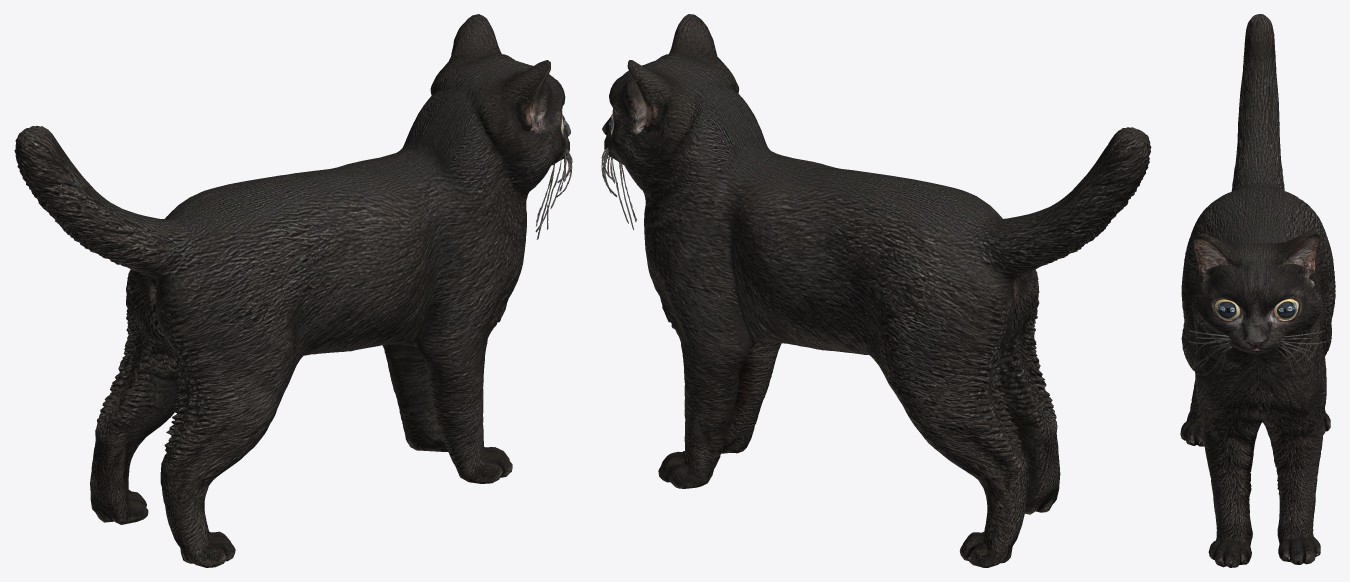
The model's file is MAYORJINX.glb.
The picture shows the model from 3 angles, left to right: view 1: azimuth 30°, elevation 25°; view 2: azimuth 150°, elevation 25°; view 3: azimuth 270°, elevation 25°; orthographic projection. The views are drawn at different scales.
Visible parts, largest first — view 1: tripo_node_490ffbd4-184d-4e5e-93cd-416a963dfd37; view 2: tripo_node_490ffbd4-184d-4e5e-93cd-416a963dfd37; view 3: tripo_node_490ffbd4-184d-4e5e-93cd-416a963dfd37.
Part boxes in pixels (<box>): tripo_node_490ffbd4-184d-4e5e-93cd-416a963dfd37: <box>14,14,572,567</box>; tripo_node_490ffbd4-184d-4e5e-93cd-416a963dfd37: <box>601,14,1151,567</box>; tripo_node_490ffbd4-184d-4e5e-93cd-416a963dfd37: <box>1180,14,1335,567</box>.
Bounding box in the file's own units: 1.31 × 0.9997 × 0.3823.
Materials: 1 (1 with a texture image).
